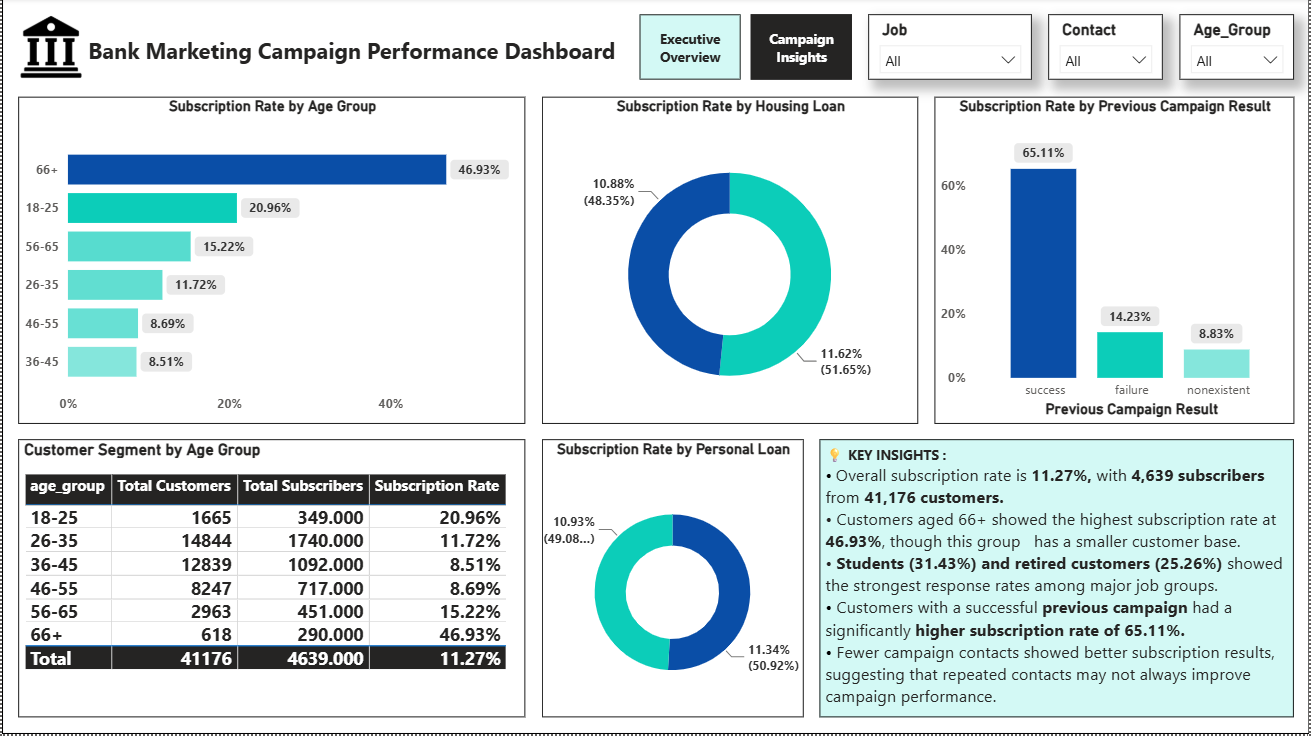

What the dashboard file says about the page in this screenshot:
{"tool":"powerbi","page":{"name":"Campaign Insights","canvas":[1280,720],"ordinal":1},"visuals":[{"type":"shape","box":[0,0,1280,720],"z":0},{"type":"slicer","fields":{"Values":["bank_marketing.job"]},"box":[848,16,160,64],"z":1000},{"type":"slicer","fields":{"Values":["bank_marketing.contact"]},"box":[1024,16,112,64],"z":2000},{"type":"slicer","fields":{"Values":["bank_marketing.age_group"]},"box":[1152,16,112,64],"z":3000},{"type":"donutChart","title":"Subscription Rate by Housing Loan","fields":{"Y":["Measure.Subscription Rate"],"Category":["bank_marketing.housing"]},"box":[528,96,368,320],"z":4000},{"type":"textbox","box":[80,32,528,48],"z":5000},{"type":"image","box":[0,16,96,64],"z":6000},{"type":"donutChart","title":"Subscription Rate by Personal Loan","fields":{"Y":["Measure.Subscription Rate"],"Category":["bank_marketing.loan"]},"box":[528,432,256,272],"z":7000},{"type":"clusteredBarChart","title":"Subscription Rate by Age Group","fields":{"Y":["Measure.Subscription Rate"],"Category":["bank_marketing.age_group"]},"box":[16,96,496,320],"z":8000},{"type":"tableEx","title":"Customer Segment by Age Group","fields":{"Values":["bank_marketing.age_group","Measure.Total Customers","Measure.Total Subscribers","Measure.Subscription Rate"]},"box":[16,432,496,272],"z":9000},{"type":"clusteredColumnChart","title":"Subscription Rate by Previous Campaign Result","fields":{"Y":["Measure.Subscription Rate"],"Category":["bank_marketing.previous_campaign_result"]},"box":[912,96,352,320],"z":10000},{"type":"pageNavigator","box":[624,16,208,64],"z":11000},{"type":"textbox","box":[800,432,464,272],"z":12000}]}

Visuals, with their boxes in screenshot pixels (x1, y1, x2, y2), scaled from the page's 1280x720 canvas onto the 1312x736 screenshot:
shape: 0/0/1311/735
slicer - bank_marketing.job: 869/16/1033/82
slicer - bank_marketing.contact: 1050/16/1164/82
slicer - bank_marketing.age_group: 1181/16/1296/82
"Subscription Rate by Housing Loan" donutChart: 541/98/918/425
textbox: 82/33/623/82
image: 0/16/98/82
"Subscription Rate by Personal Loan" donutChart: 541/442/804/720
"Subscription Rate by Age Group" clusteredBarChart: 16/98/525/425
"Customer Segment by Age Group" tableEx: 16/442/525/720
"Subscription Rate by Previous Campaign Result" clusteredColumnChart: 935/98/1296/425
pageNavigator: 640/16/853/82
textbox: 820/442/1296/720
